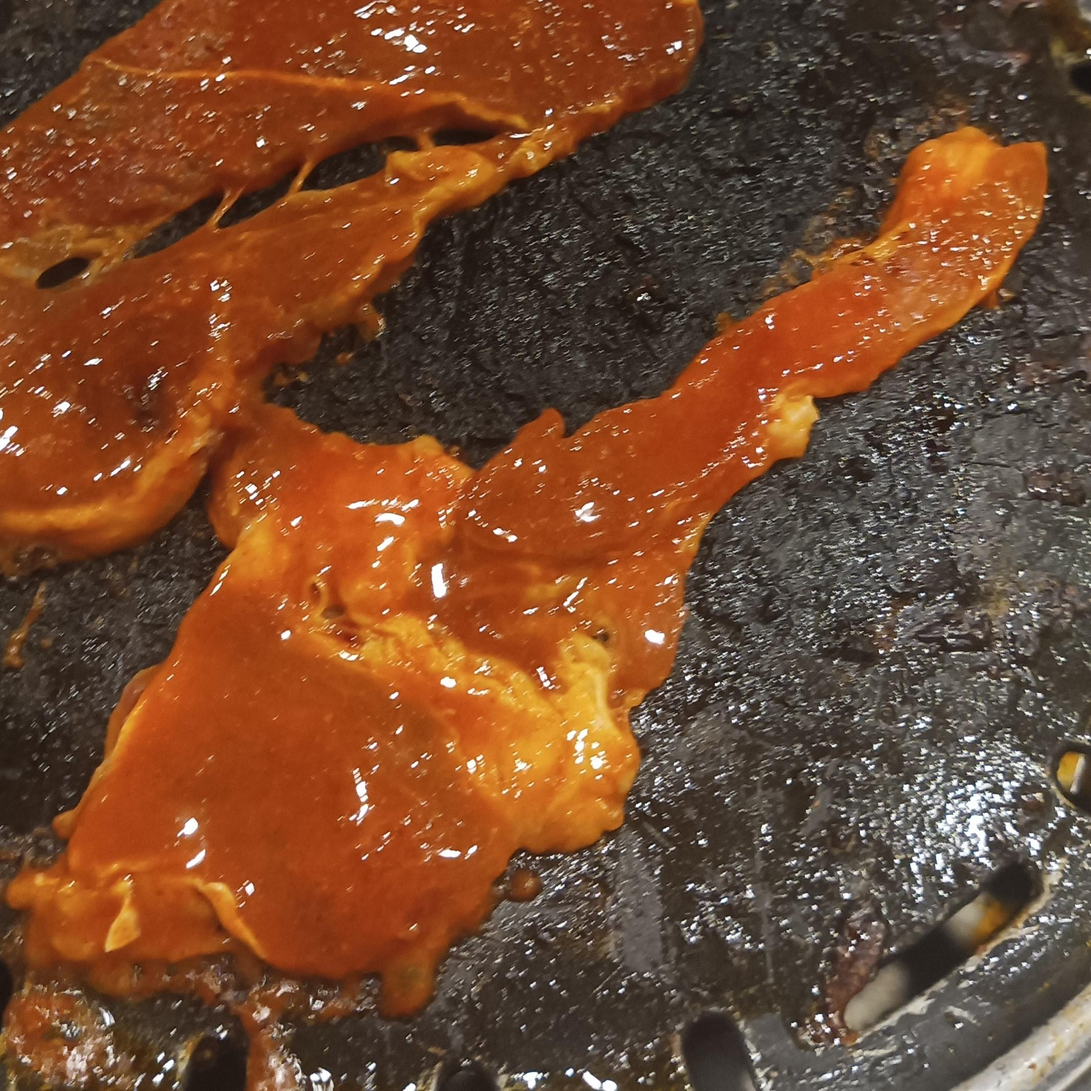Undercooked: (27, 277, 936, 1014), (0, 129, 561, 571), (0, 0, 701, 306)
